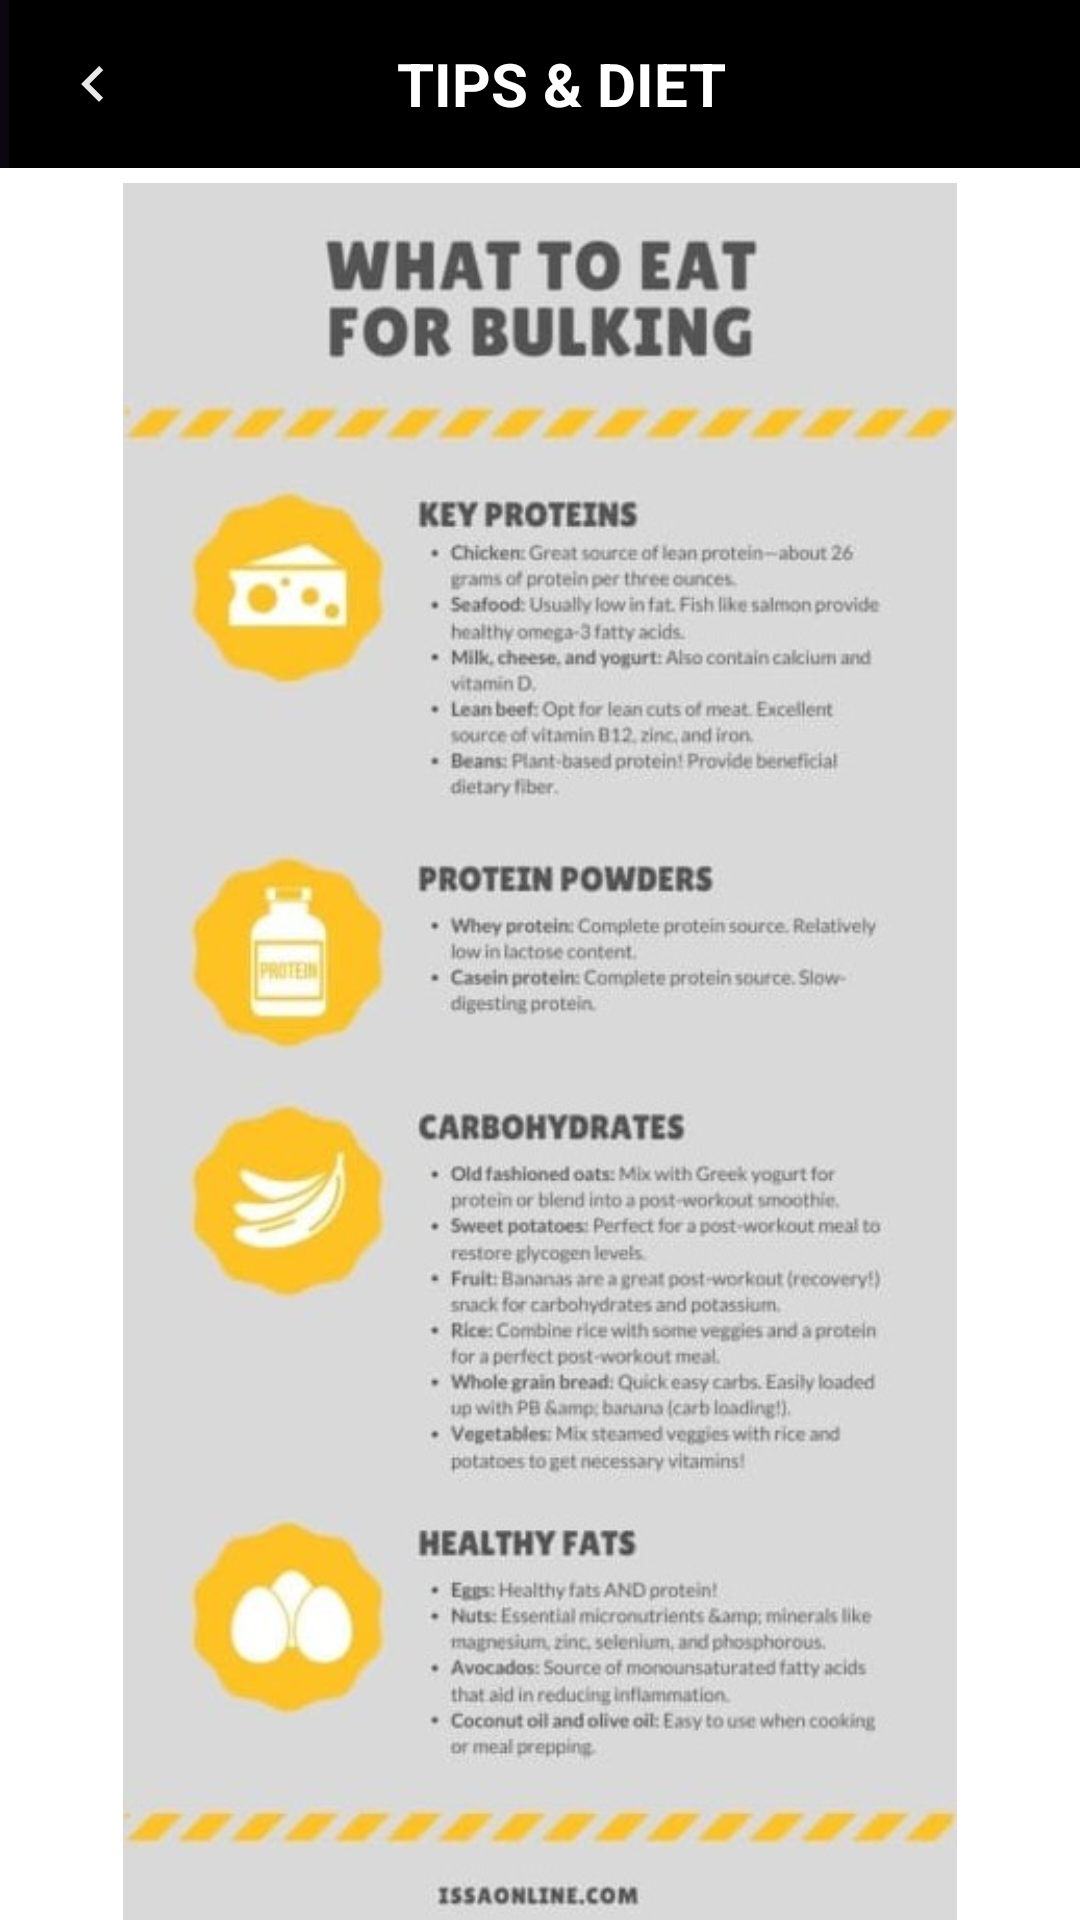

Screen size 1080×1920. Icon name, then its center in pixels as point (x, y):
keyboard arrow left: point (92, 84)
